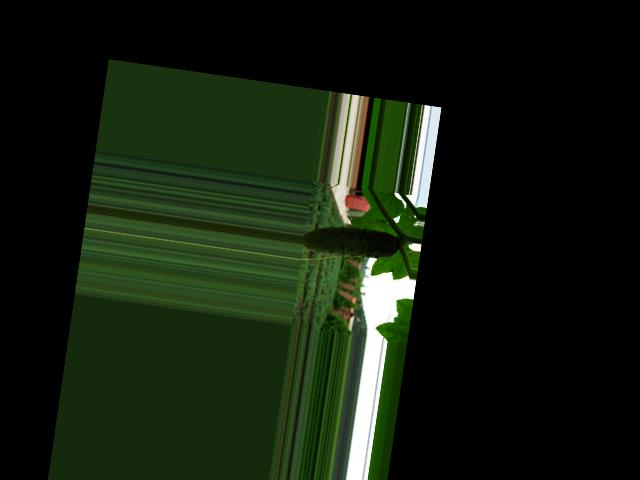cucumber: (300, 220, 400, 264)
